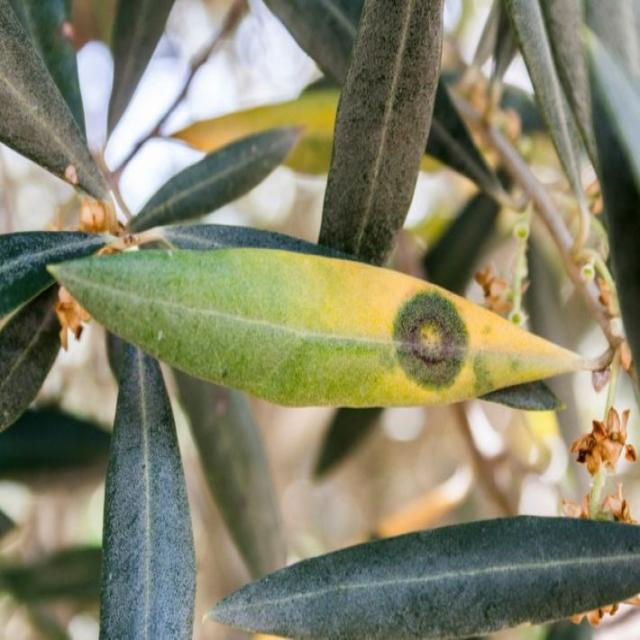Peacock Eye: (47, 243, 577, 407)
